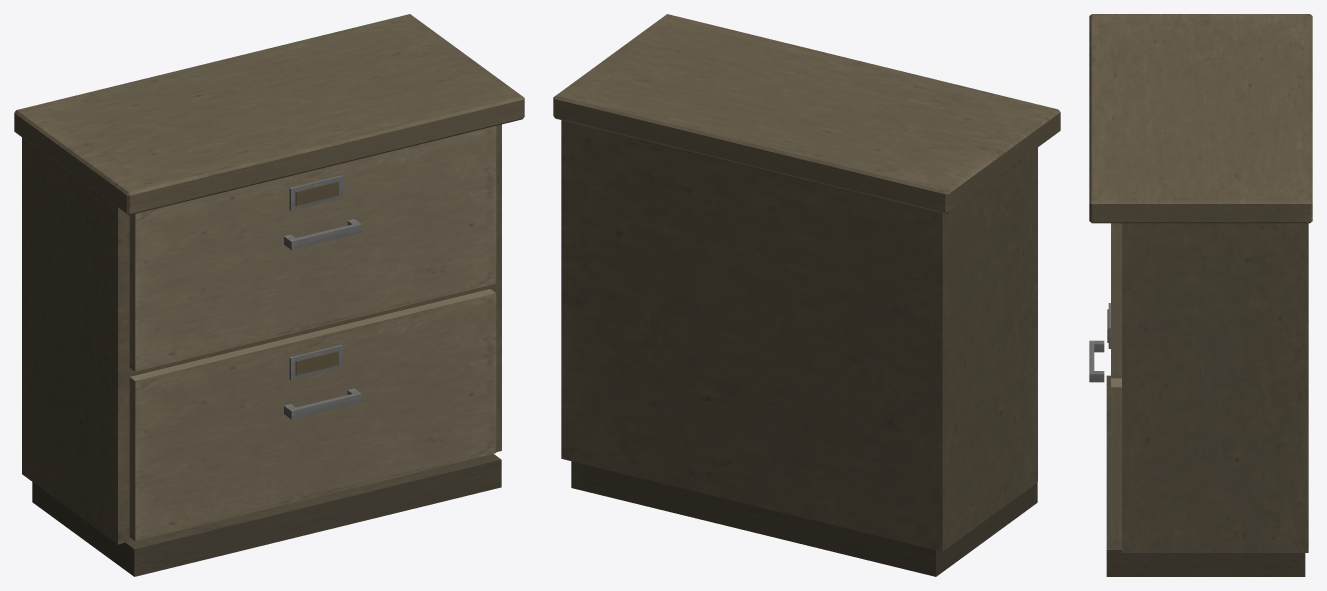
Rendered from cabinet.glb.
3 renders of one model, left to right at view 1: azimuth 30°, elevation 25°; view 2: azimuth 150°, elevation 25°; view 3: azimuth 270°, elevation 25°, orthographic. The views are drawn at different scales.
Parts seen in each view (by area): view 1: core_cabinet; view 2: core_cabinet; view 3: core_cabinet.
Part boxes in pixels (x1,y1,x2,y2): core_cabinet: [14, 14, 524, 576]; core_cabinet: [553, 14, 1060, 576]; core_cabinet: [1089, 14, 1312, 576].
Size of the model in its own units: 0.9 by 0.85 by 0.45.
Materials: 1 (1 with a texture image).
